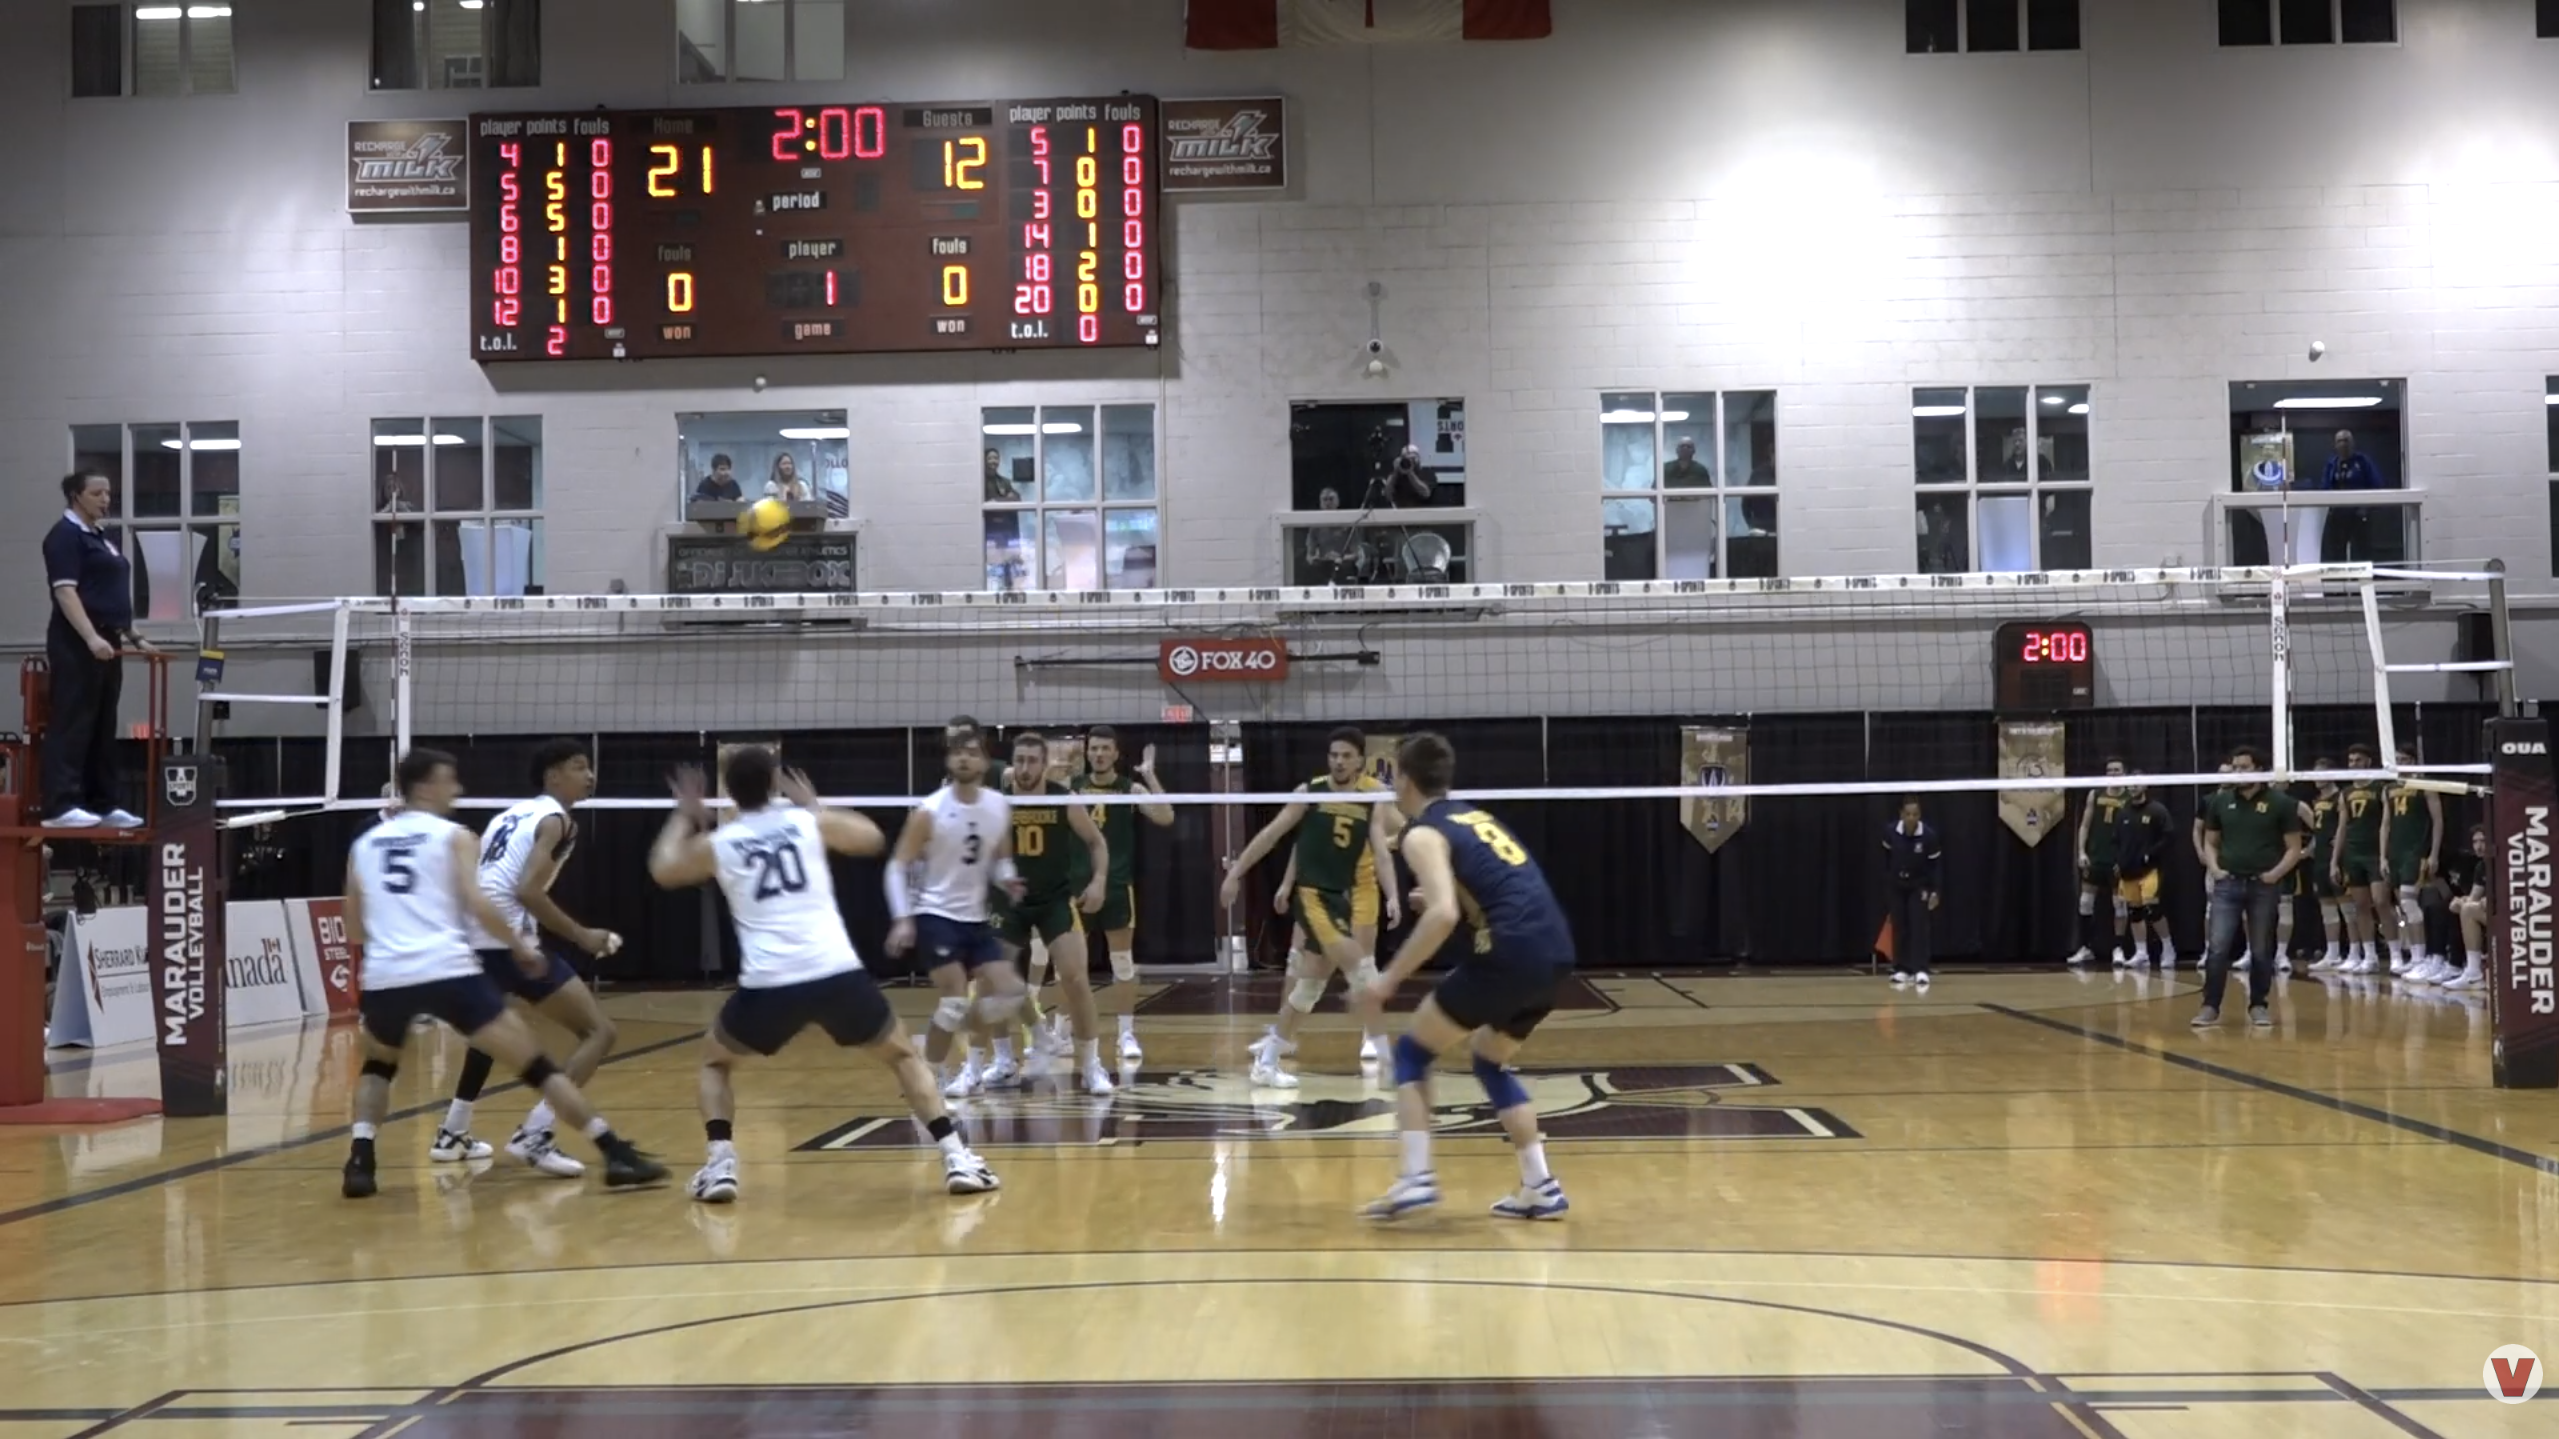Ball: (735, 495, 794, 553)
